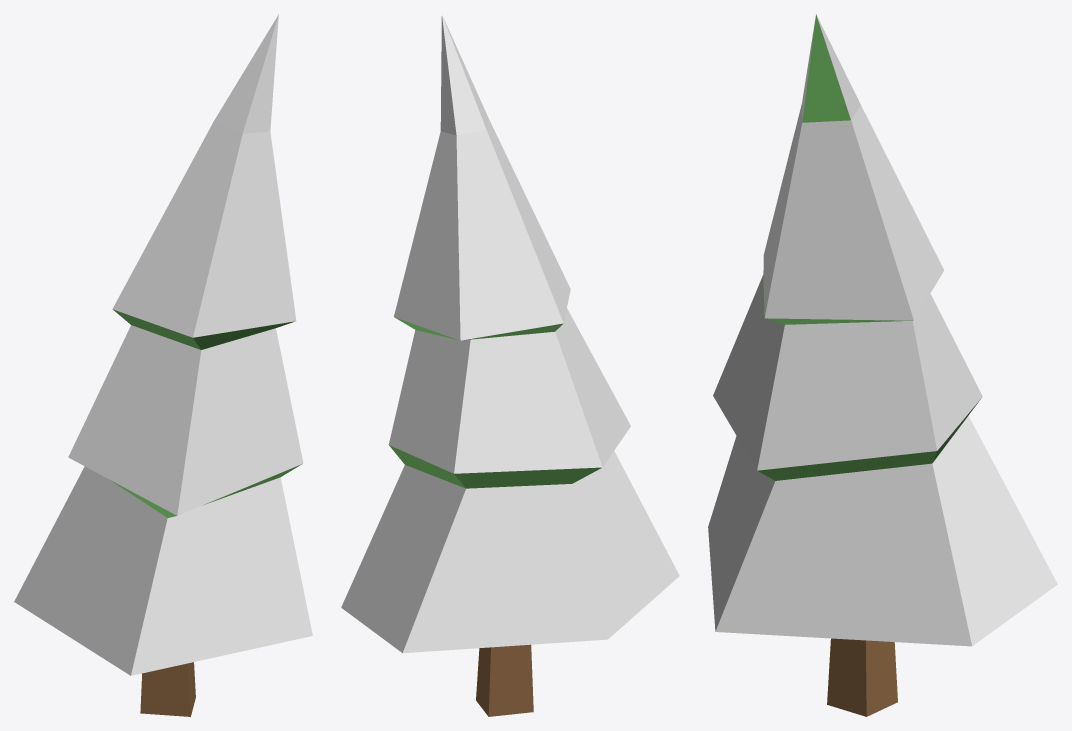
The model's file is Fir_Tree_s_Snow_BT_03.fbx.
The picture shows the model from 3 angles, left to right: view 1: azimuth 30°, elevation 25°; view 2: azimuth 150°, elevation 25°; view 3: azimuth 270°, elevation 25°; orthographic projection. The views are drawn at different scales.
Visible parts, largest first — view 1: Fir_Tree_s_Snow_BT_03; view 2: Fir_Tree_s_Snow_BT_03; view 3: Fir_Tree_s_Snow_BT_03.
Boxes of the visible parts, bbox=[...] form: Fir_Tree_s_Snow_BT_03: bbox=[14, 14, 312, 716]; Fir_Tree_s_Snow_BT_03: bbox=[341, 15, 679, 716]; Fir_Tree_s_Snow_BT_03: bbox=[708, 14, 1057, 716].
Bounding box in the file's own units: 95.85 × 250 × 108.
